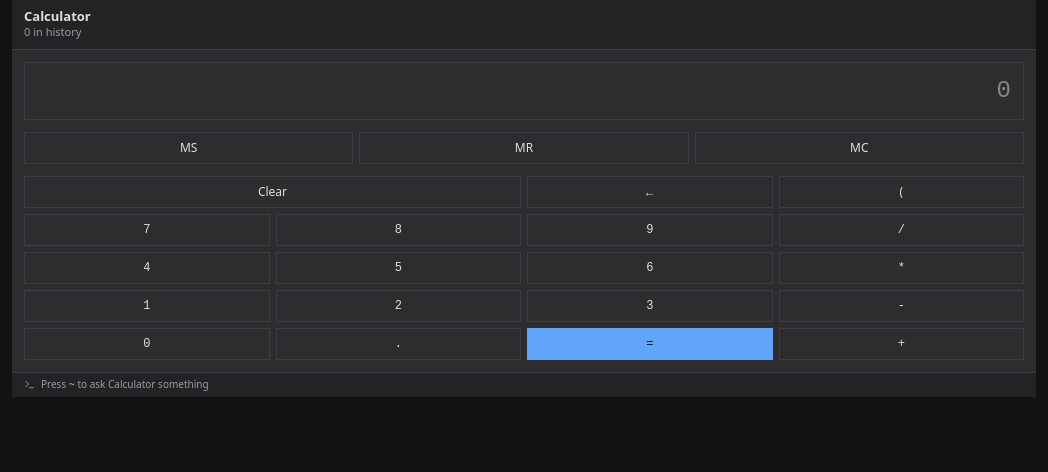
apps respond to being used › Calculator refuses something that is not arithmetic
Type "alert(1)" into the field at (524, 91), box [37,75,1011,107]
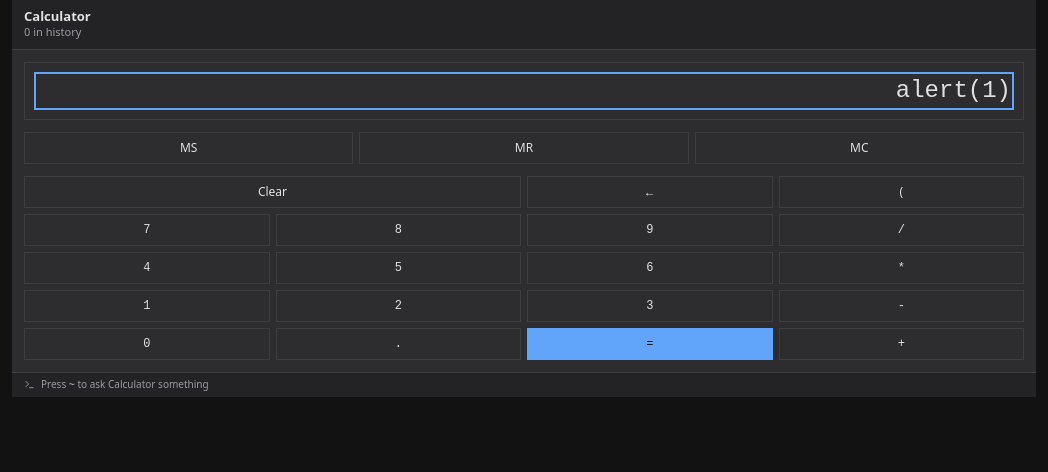
Press Enter
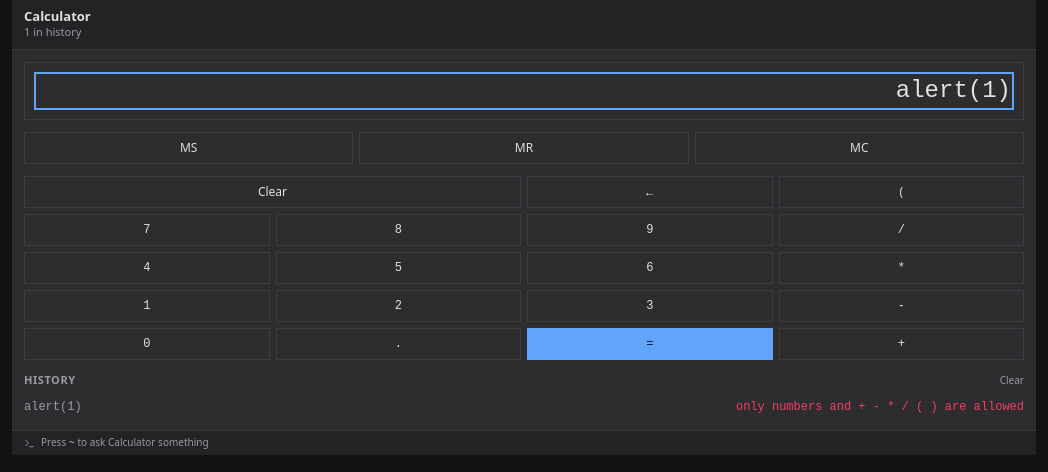
Now the text "only numbers and + - * / ( ) are allowed" is shown, box [724,398,1024,416]
